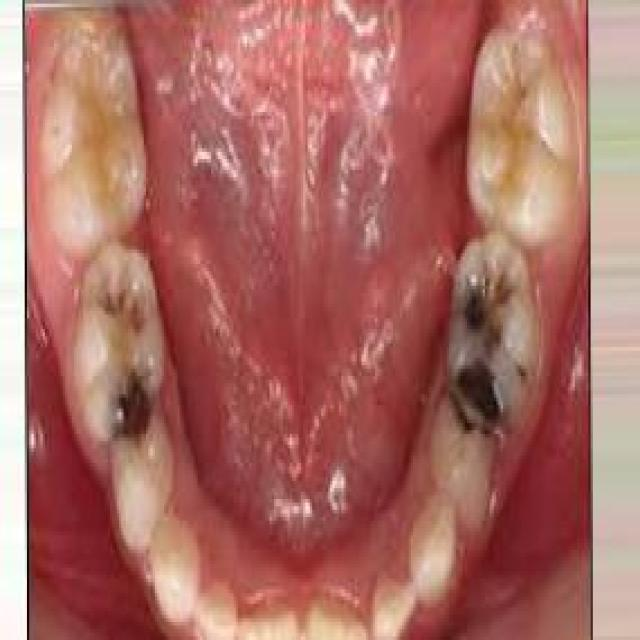caries: (101, 352, 166, 470), (441, 351, 512, 452), (458, 258, 517, 349), (90, 272, 155, 344)
